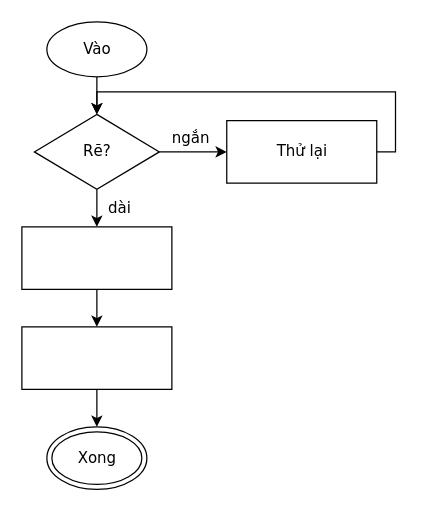
The diagram is 428 pixels wide and 511 high, and some of its shapes have lost their labels. The shapes that lost their labels are listed below. From the top down, each one's box as (x1, y1, x2, y2) in pixels, then its label:
(21, 226, 172, 289): Bước một
(21, 326, 172, 389): Bước hai
